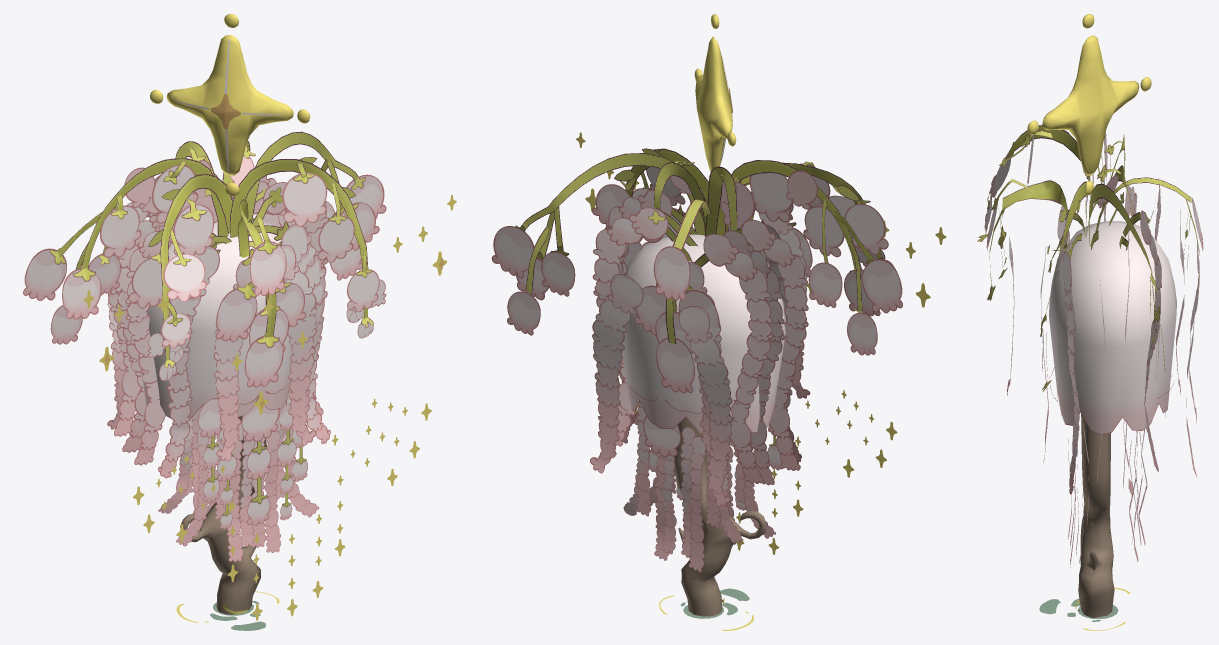
Rendered from Mesh_Home_RF_SBC_4_SM.fbx.
The picture shows the model from 3 angles, left to right: view 1: azimuth 30°, elevation 25°; view 2: azimuth 150°, elevation 25°; view 3: azimuth 270°, elevation 25°; orthographic projection.
Parts seen in each view (by area): view 1: Mesh_Home_RF_SBC_4_P, Mesh_Home_RF_SBC_4; view 2: Mesh_Home_RF_SBC_4_P, Mesh_Home_RF_SBC_4; view 3: Mesh_Home_RF_SBC_4, Mesh_Home_RF_SBC_4_P.
Boxes of the visible parts, x1,y1,x2,y2 form: Mesh_Home_RF_SBC_4_P: (23, 39, 456, 630); Mesh_Home_RF_SBC_4: (142, 14, 310, 614); Mesh_Home_RF_SBC_4_P: (491, 58, 946, 630); Mesh_Home_RF_SBC_4: (622, 14, 786, 616); Mesh_Home_RF_SBC_4: (1027, 14, 1176, 617); Mesh_Home_RF_SBC_4_P: (977, 125, 1203, 630).
Bounding box in the file's own units: 770 × 1095 × 381.
2 materials, 2 textured.
